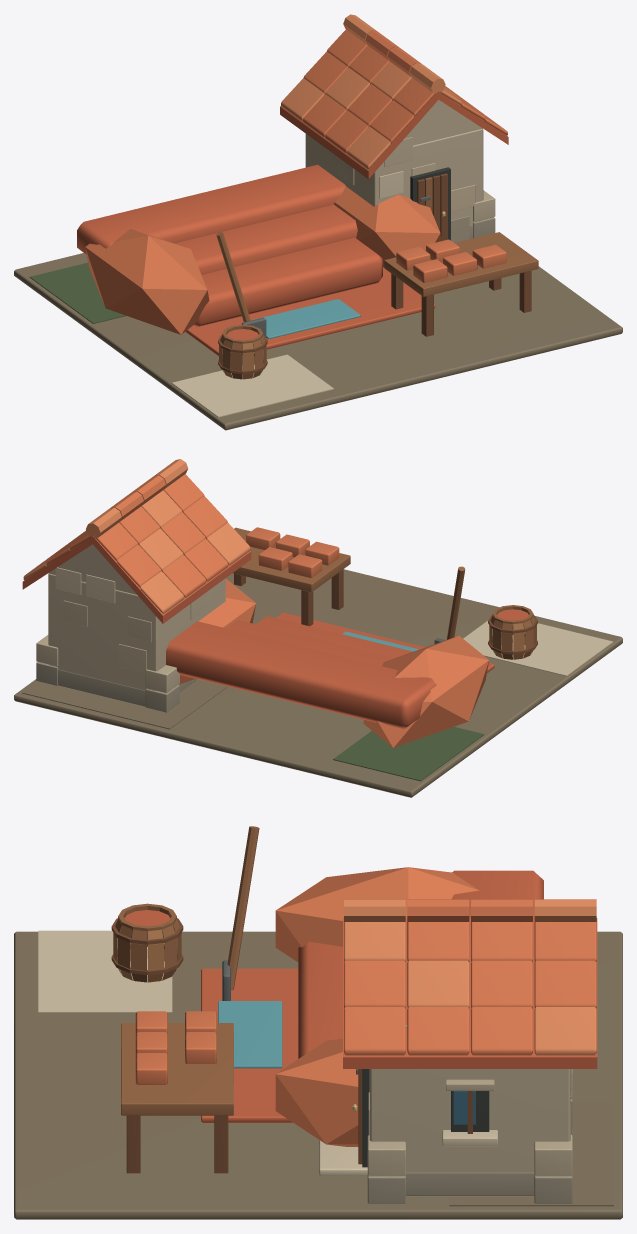
Rendered from claypit.glb.
3 renders of one model, top to bottom at view 1: azimuth 30°, elevation 25°; view 2: azimuth 150°, elevation 25°; view 3: azimuth 270°, elevation 25°, orthographic. The views are drawn at different scales.
Visible parts, largest first — view 1: claypit; view 2: claypit; view 3: claypit.
Part boxes in pixels (left/top/right/bottom): claypit: left=14, top=14, right=622, bottom=430; claypit: left=14, top=459, right=622, bottom=797; claypit: left=14, top=826, right=622, bottom=1219.
Size of the model in its own units: 3.1 by 1.44 by 2.85.
